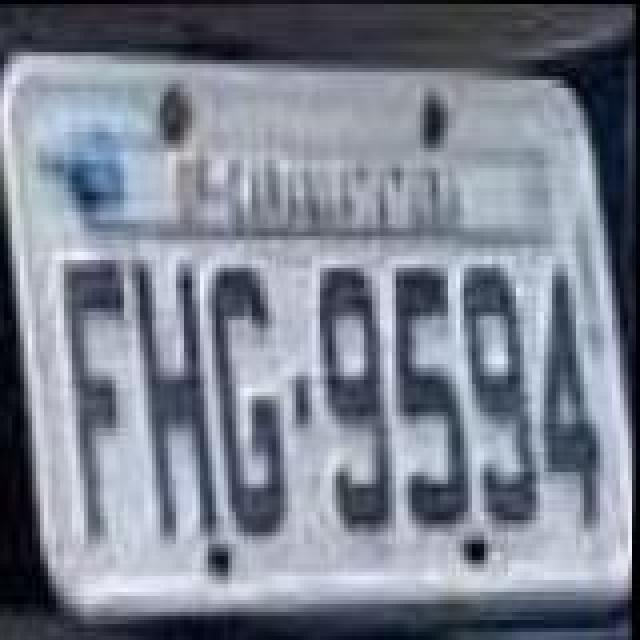4: (536, 262, 612, 538)
5: (388, 266, 480, 534)
9: (312, 260, 404, 528), (456, 256, 548, 524)
F: (52, 252, 136, 540)
G: (204, 260, 296, 548)
H: (124, 252, 232, 540)
